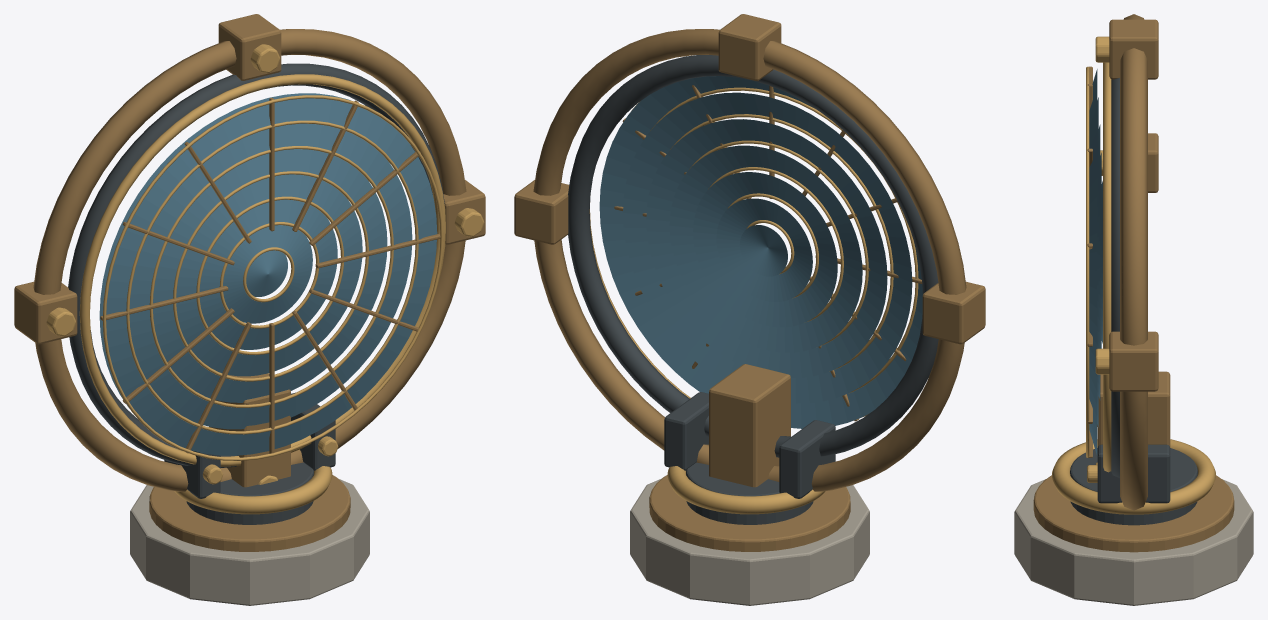
File: fresnel.glb
3 renders of one model, left to right at view 1: azimuth 30°, elevation 25°; view 2: azimuth 150°, elevation 25°; view 3: azimuth 270°, elevation 25°, orthographic.
Parts seen in each view (by area): view 1: Cold blue optical glass, Aged brass frame, Polished brass edges, Pale stone mounting plinth, Dark steel bearings; view 2: Cold blue optical glass, Aged brass frame, Dark steel bearings, Pale stone mounting plinth, Polished brass edges; view 3: Aged brass frame, Pale stone mounting plinth, Polished brass edges, Dark steel bearings, Cold blue optical glass.
Boxes of the visible parts, x1,y1,x2,y2 form: Cold blue optical glass: [99, 93, 437, 455]; Aged brass frame: [14, 14, 485, 551]; Polished brass edges: [46, 44, 484, 514]; Pale stone mounting plinth: [130, 478, 369, 605]; Dark steel bearings: [68, 63, 444, 524]; Cold blue optical glass: [599, 76, 922, 428]; Aged brass frame: [514, 14, 985, 551]; Dark steel bearings: [568, 55, 938, 524]; Pale stone mounting plinth: [630, 478, 869, 605]; Polished brass edges: [589, 87, 918, 514]; Aged brass frame: [1033, 14, 1234, 552]; Pale stone mounting plinth: [1014, 479, 1253, 605]; Polished brass edges: [1052, 36, 1215, 514]; Dark steel bearings: [1070, 78, 1197, 525]; Cold blue optical glass: [1089, 69, 1102, 455].
Size of the model in its own units: 2.42 by 2.73 by 1.12.
